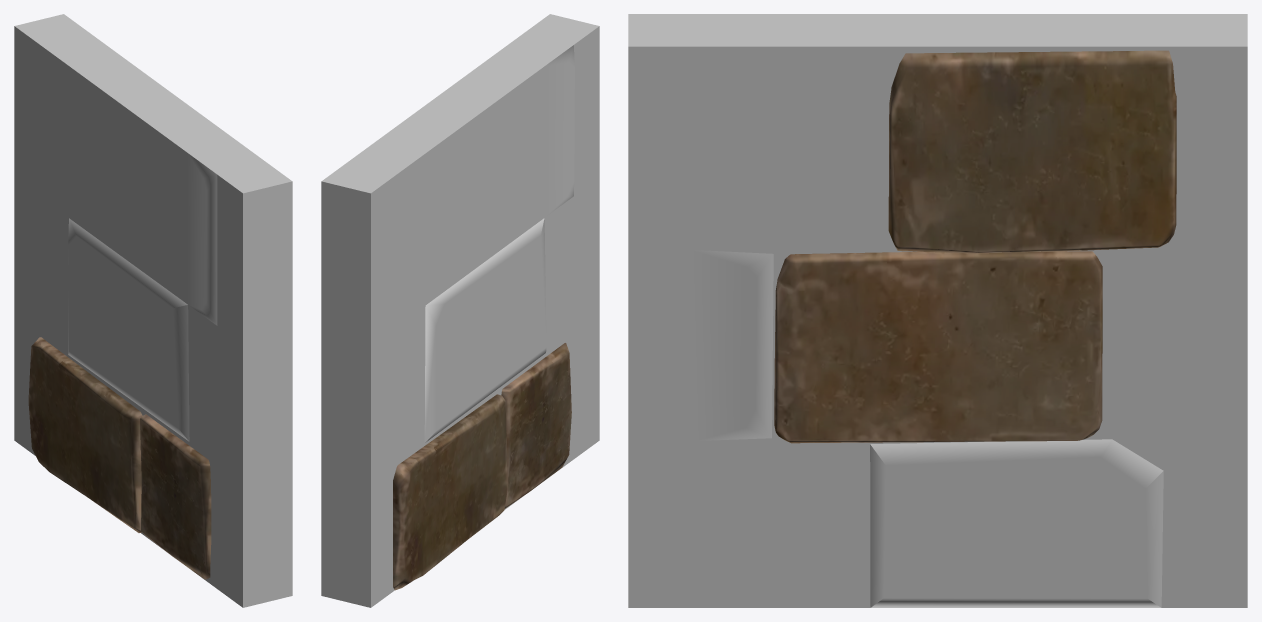
3 renders of one model, left to right at view 1: azimuth 30°, elevation 25°; view 2: azimuth 150°, elevation 25°; view 3: azimuth 270°, elevation 25°, orthographic. The views are drawn at different scales.
Parts seen in each view (by area): view 1: SM_Vault_4m_Wall_01_LOD0; view 2: SM_Vault_4m_Wall_01_LOD0; view 3: SM_Vault_4m_Wall_01_LOD0.
Part boxes in pixels (x1,y1,x2,y2): SM_Vault_4m_Wall_01_LOD0: [14, 14, 292, 607]; SM_Vault_4m_Wall_01_LOD0: [321, 14, 599, 607]; SM_Vault_4m_Wall_01_LOD0: [628, 14, 1247, 607].
Size of the model in its own units: 0.712 by 4 by 4.
